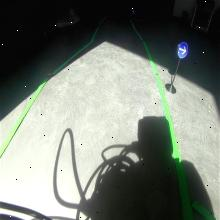right: (177, 41, 188, 59)
